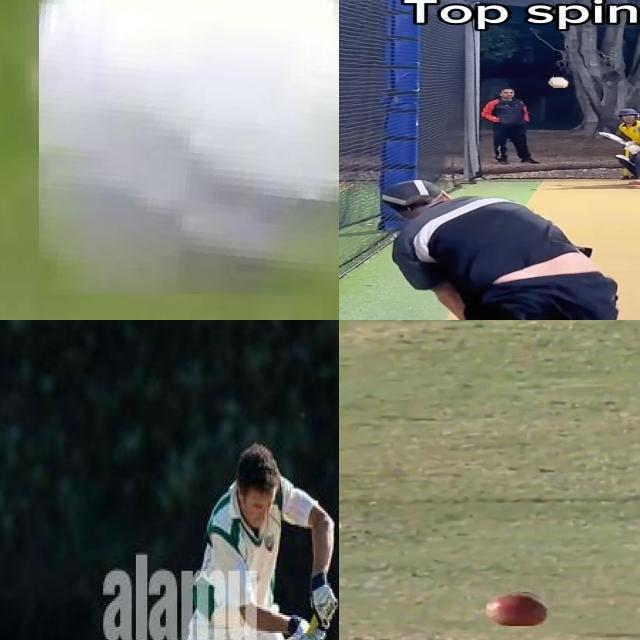Cricket ball: (39, 0, 339, 294), (486, 589, 553, 626), (548, 75, 570, 88)
